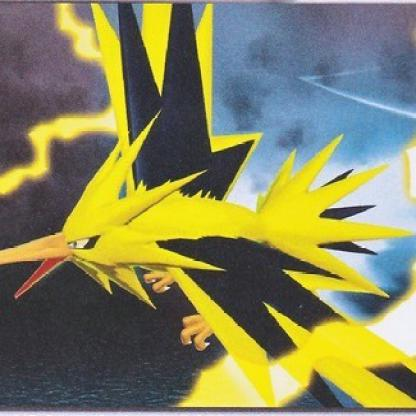Zapdos: (1, 62, 416, 407)
